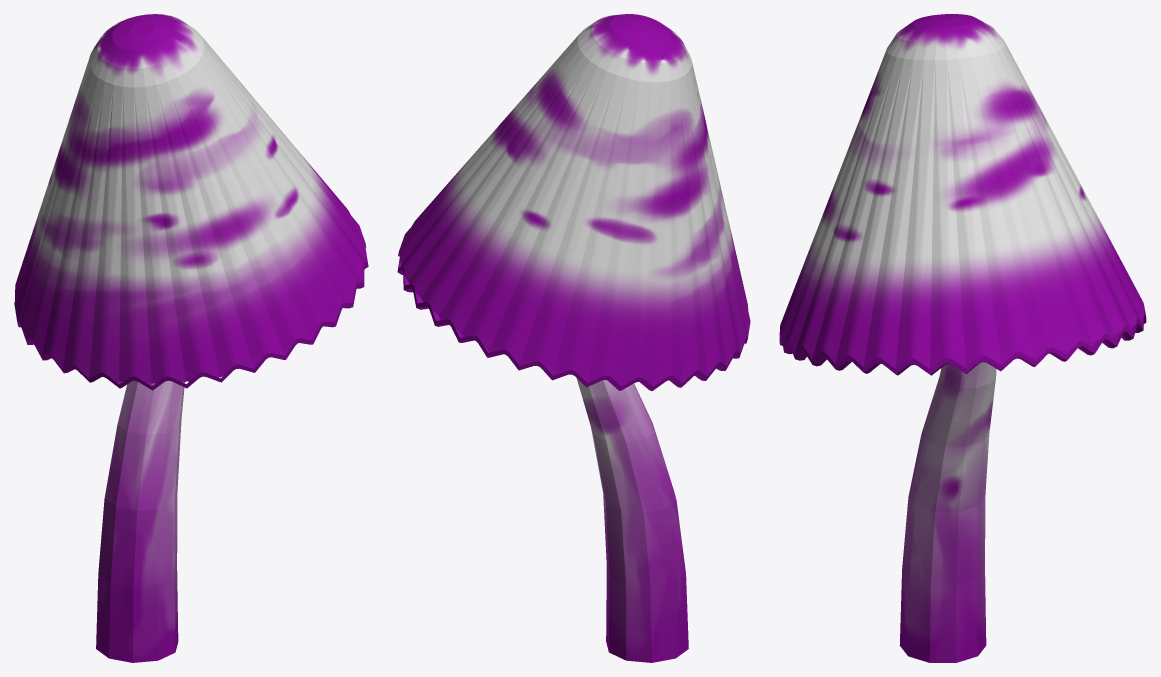
Rendered from Mushroom.dae.
3 renders of one model, left to right at view 1: azimuth 30°, elevation 25°; view 2: azimuth 150°, elevation 25°; view 3: azimuth 270°, elevation 25°, orthographic. The views are drawn at different scales.
Visible parts, largest first — view 1: Head, Stem; view 2: Head, Stem; view 3: Head, Stem.
Boxes of the visible parts, box(x1,y1,x2,y2) form: Head: box(14, 14, 368, 390); Stem: box(96, 380, 184, 662); Head: box(397, 14, 750, 391); Stem: box(576, 378, 688, 662); Head: box(779, 14, 1146, 375); Stem: box(899, 362, 996, 662).
Bounding box in the file's own units: 1.06 × 1.07 × 2.05.
2 materials, 2 textured.
